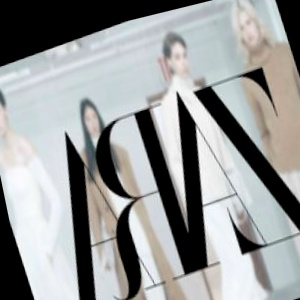zara: (272, 16, 300, 84)
